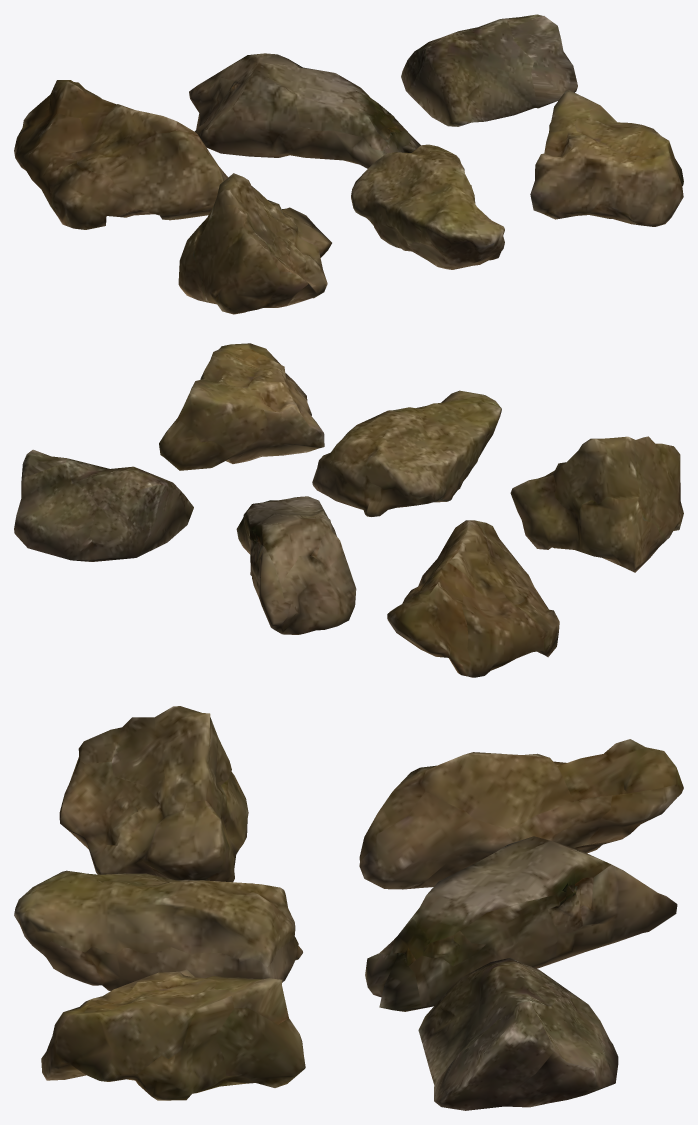
Rendered from rocks.glb.
3 renders of one model, top to bottom at view 1: azimuth 30°, elevation 25°; view 2: azimuth 150°, elevation 25°; view 3: azimuth 270°, elevation 25°, orthographic. The views are drawn at different scales.
Parts seen in each view (by area): view 1: rock_moss_set_01_rock01; view 2: rock_moss_set_01_rock01; view 3: rock_moss_set_01_rock01.
Boxes of the visible parts, x1,y1,x2,y2 form: rock_moss_set_01_rock01: (14,14,683,314); rock_moss_set_01_rock01: (14,343,683,677); rock_moss_set_01_rock01: (14,706,683,1110).
Size of the model in its own units: 8 by 1.76 by 6.94.
Materials: 1 (1 with a texture image).
